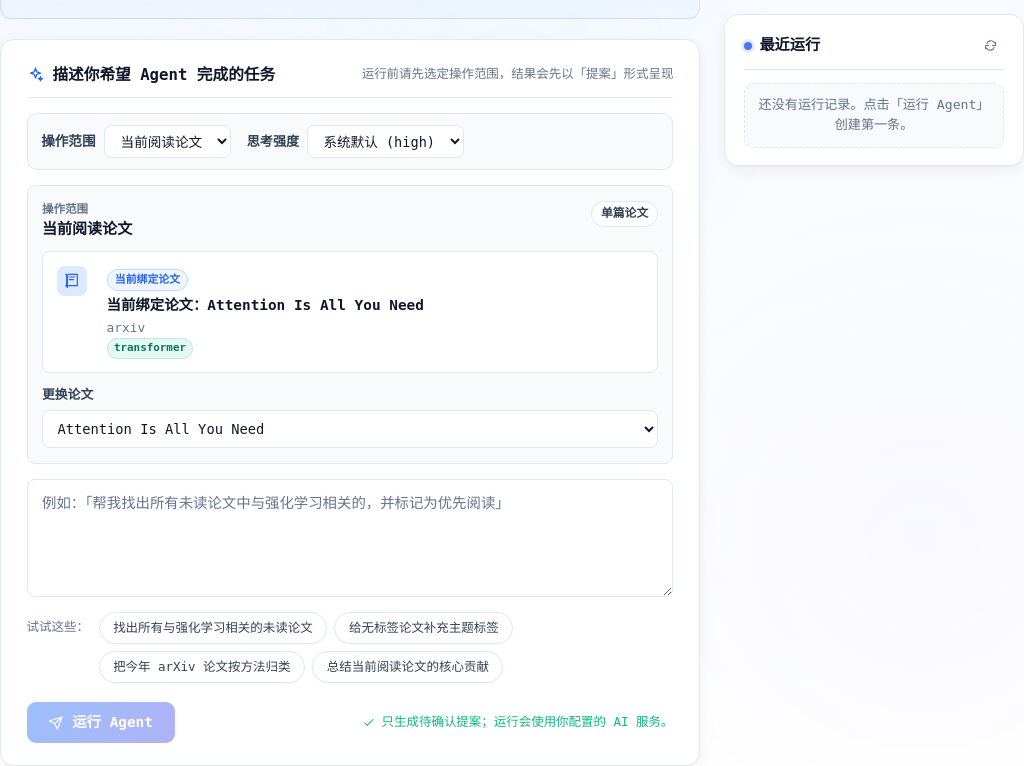
reader_paper scope shows current paper and supports switching
(page scrolled)
Expected: the text "当前绑定论文：Attention Is All You Need" is shown, x1=107 y1=297 x2=424 y2=313
Select "Diffusion Models Survey" in the dropdown named "当前阅读论文" at (350, 429), box x1=42 y1=410 x2=658 y2=448
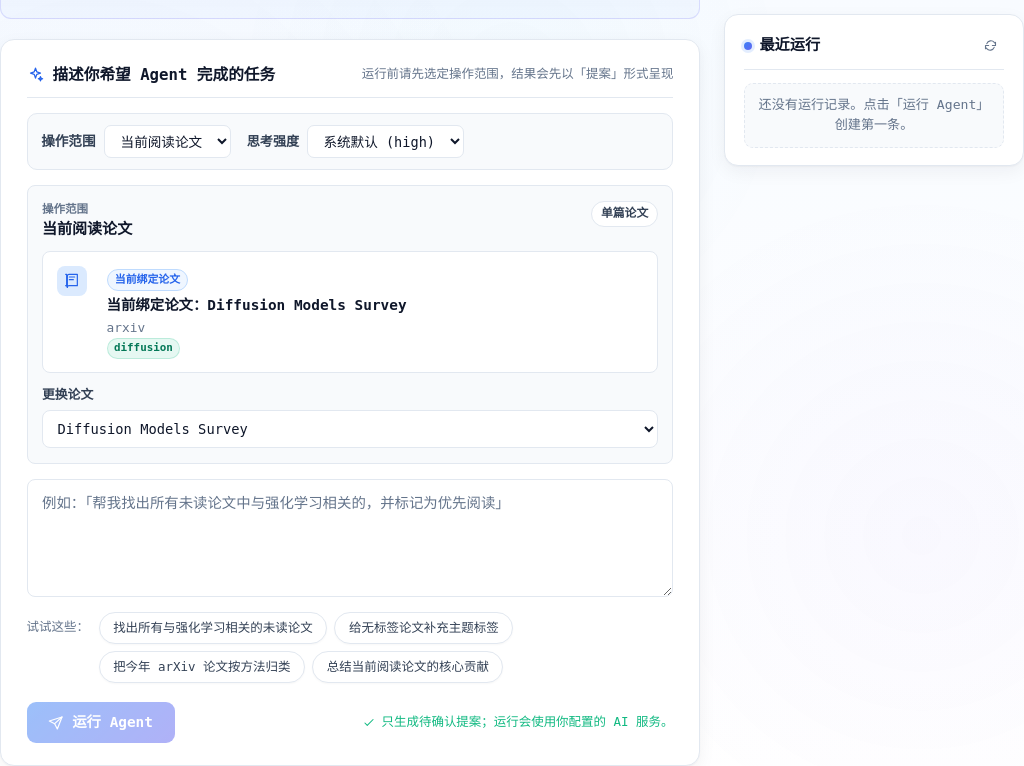
Now the text "当前绑定论文：Diffusion Models Survey" is shown, box x1=107 y1=297 x2=407 y2=313
